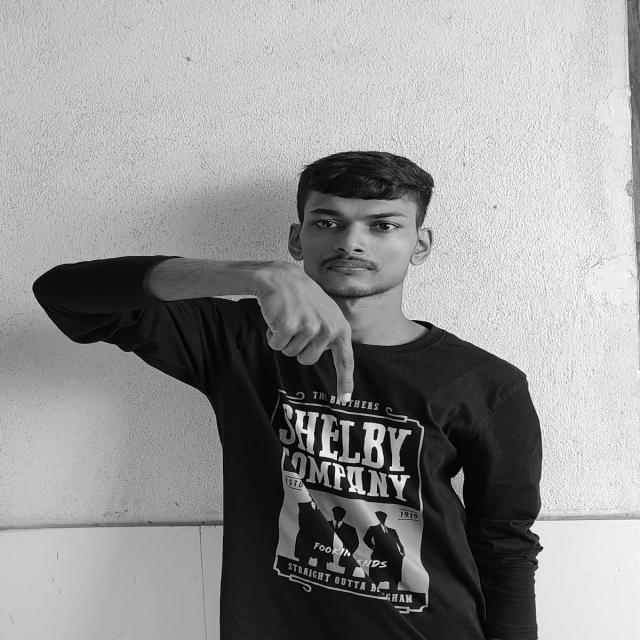Now: (250, 282, 360, 406)
